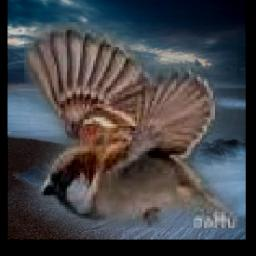Sparrow: (23, 22, 236, 228)
